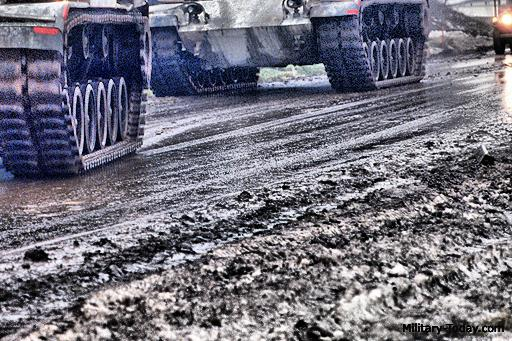tanks: (1, 1, 153, 178), (151, 1, 431, 95)
